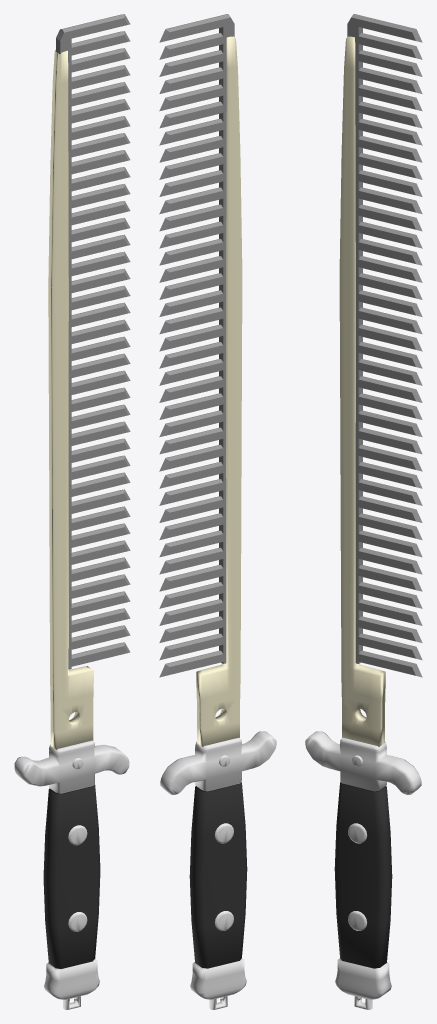
Rendered from switchbladecomb.fbx.
The picture shows the model from 3 angles, left to right: view 1: azimuth 30°, elevation 25°; view 2: azimuth 210°, elevation 25°; view 3: azimuth 330°, elevation 25°; orthographic projection.
Visible parts, largest first — view 1: Cube; view 2: Cube; view 3: Cube.
Boxes of the visible parts, box(x1,y1,x2,y2) form: Cube: box(14, 14, 130, 1009); Cube: box(159, 14, 276, 1009); Cube: box(305, 14, 422, 1009).
Size of the model in its own units: 116 by 965 by 24.48.
